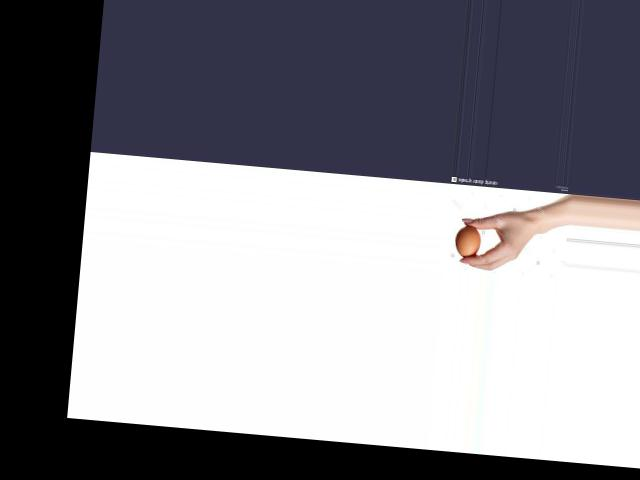egg: (454, 224, 483, 258)
